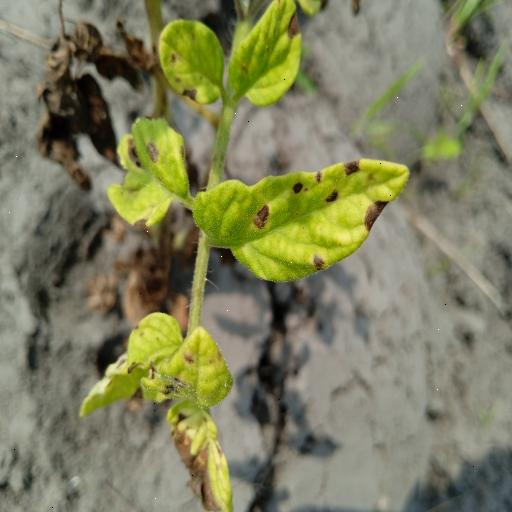Tomato_Brown_Spots: (190, 152, 418, 286)
